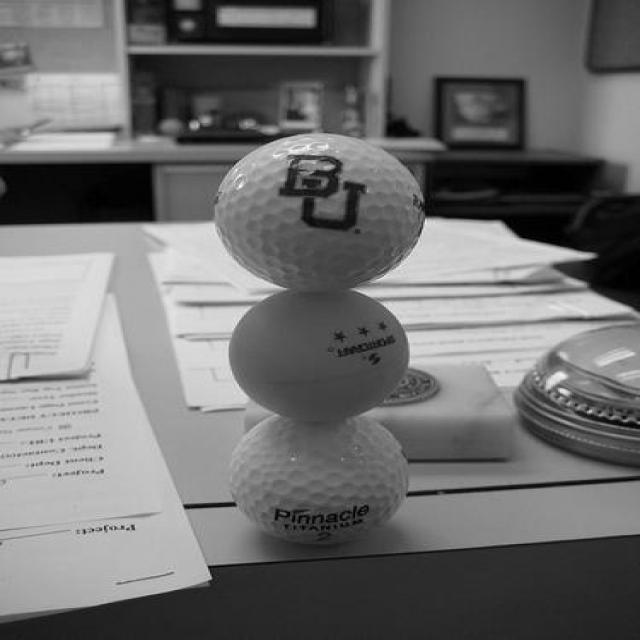ping-pong-ball: (228, 284, 416, 428)
